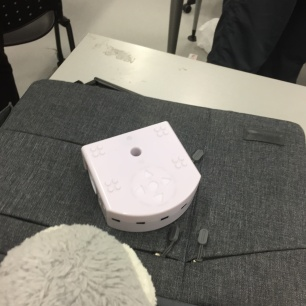thymio: (76, 117, 206, 235)
